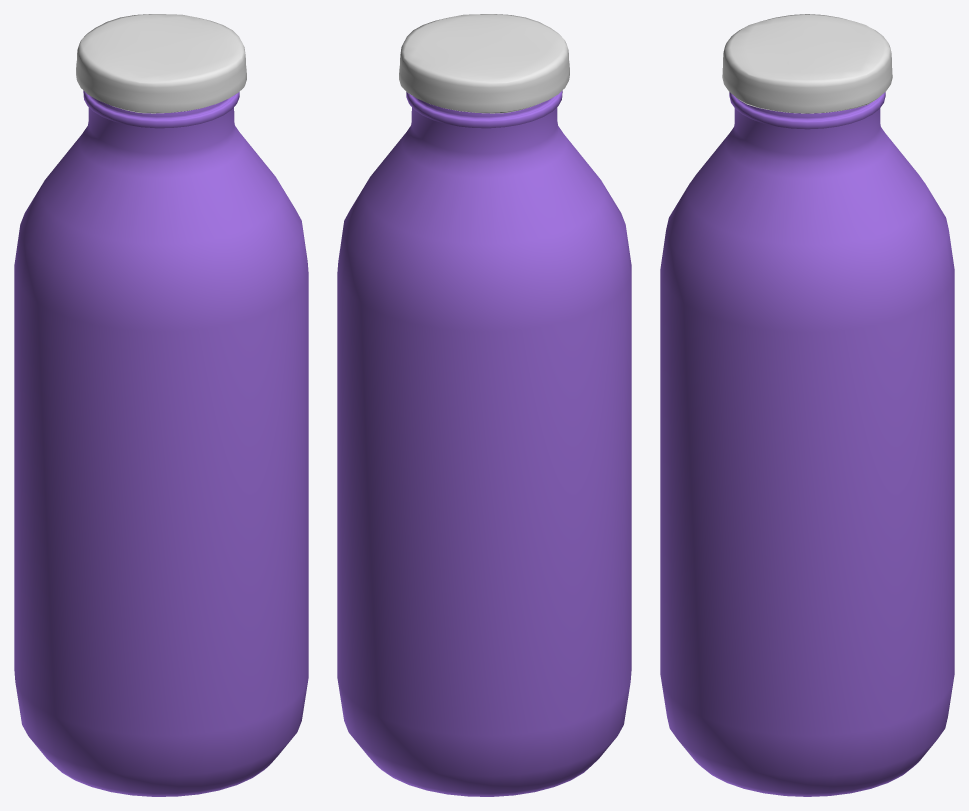
Rendered from bottle.fbx.
3 views of the same model, side by side, from view 1: azimuth 30°, elevation 25°; view 2: azimuth 150°, elevation 25°; view 3: azimuth 270°, elevation 25° (orthographic).
Visible parts, largest first — view 1: Bottle, Top; view 2: Bottle, Top; view 3: Bottle, Top.
Part boxes in pixels (box(x1,y1,x2,y2)): Bottle: box(14, 90, 308, 796); Top: box(76, 14, 246, 113); Bottle: box(337, 90, 631, 796); Top: box(399, 14, 569, 113); Bottle: box(660, 92, 954, 796); Top: box(722, 14, 892, 113).
Bounding box in the file's own units: 36.53 × 96.08 × 36.53.
